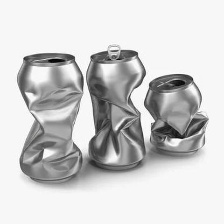can: (14, 51, 85, 184), (83, 45, 148, 173), (141, 72, 211, 159)
